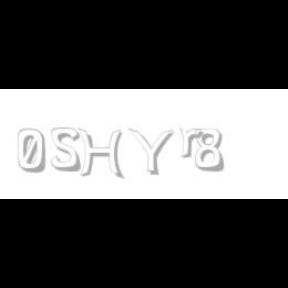0: (17, 128, 48, 174)
8: (194, 128, 224, 172)
H: (78, 128, 124, 180)
S: (50, 128, 82, 172)
Y: (128, 128, 174, 176)
r: (180, 128, 206, 158)
